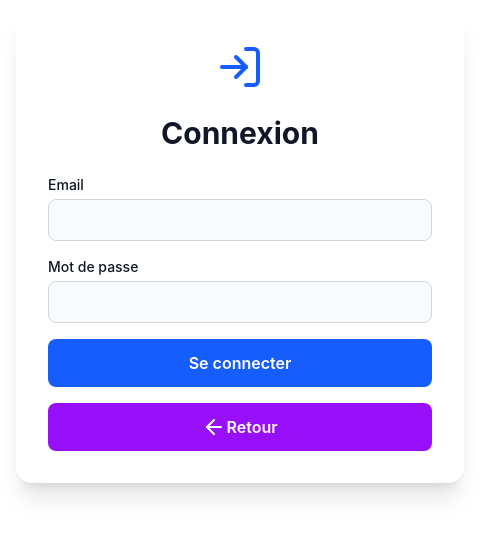
Test case: Login Page › affiche un message d'erreur en cas d'échec de connexion
The width and height of the screenshot is (481, 548).
Note: Simulation de la saisie
Type "test@example.com" into the field labelled "Email". click: (240,220)
box: x1=48 y1=199 x2=432 y2=241
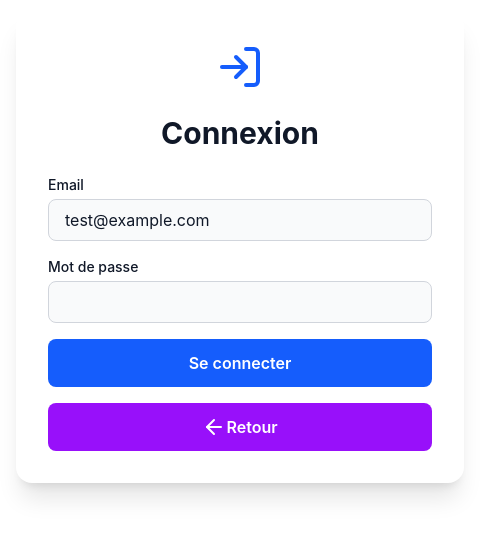
Type "password" into the password field labelled "Mot de passe". click: (240,302)
box: x1=48 y1=281 x2=432 y2=323
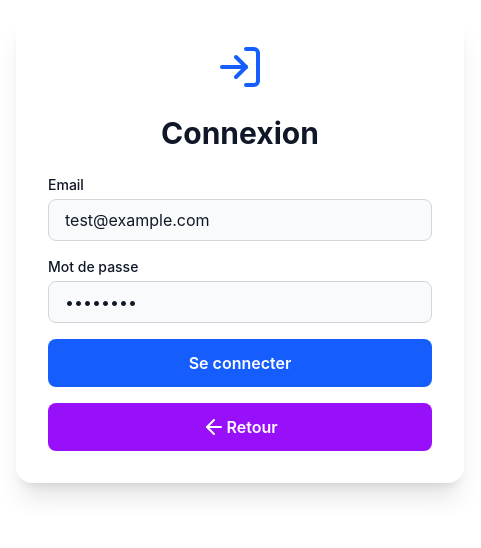
Note: Simulation du clic sur le bouton
Click the button "Se connecter". click: (240,363)
box: x1=48 y1=339 x2=432 y2=387
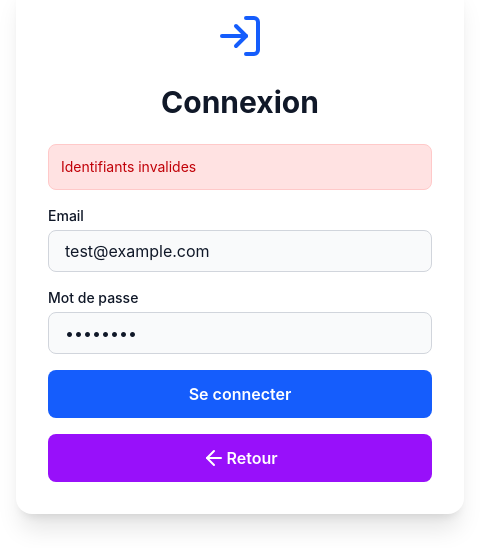
expect the text "Identifiants invalides" is shown: met, box x1=48 y1=144 x2=432 y2=190
